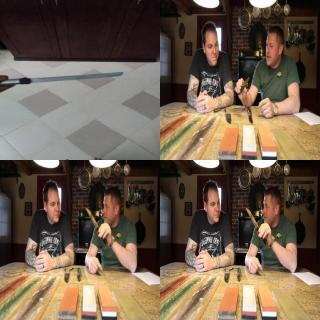knife: (16, 68, 124, 86), (85, 202, 106, 238), (244, 203, 266, 237), (237, 74, 251, 94)
